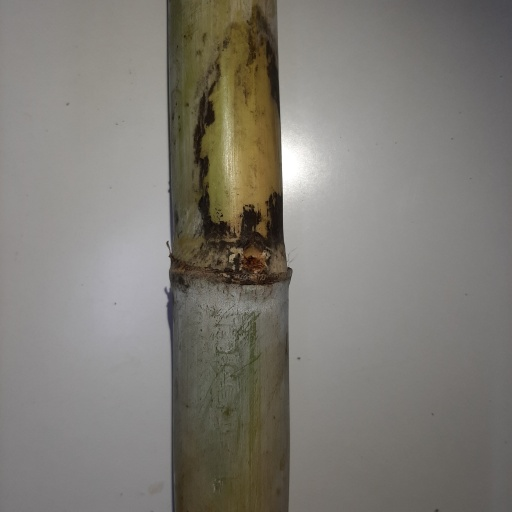Damage_Bud: (239, 242, 267, 277)
